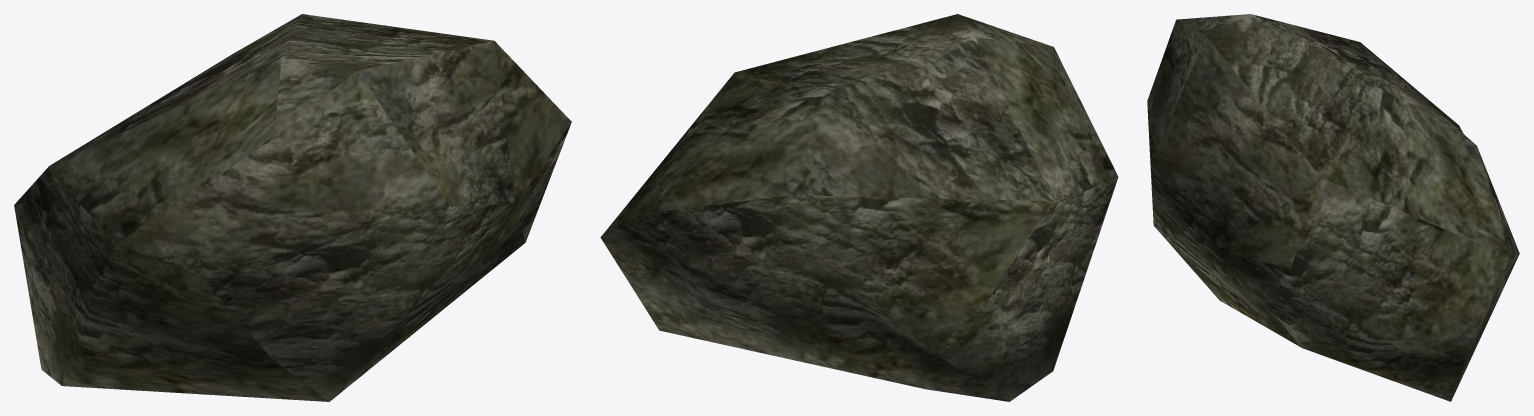
File: MIN_LOB_STONE_V2_30.glb
3 renders of one model, left to right at view 1: azimuth 30°, elevation 25°; view 2: azimuth 150°, elevation 25°; view 3: azimuth 270°, elevation 25°, orthographic. The views are drawn at different scales.
Visible parts, largest first — view 1: Mesh; view 2: Mesh; view 3: Mesh.
Boxes of the visible parts, x1=… form: Mesh: x1=14, y1=14, x2=571, y2=401; Mesh: x1=600, y1=14, x2=1118, y2=401; Mesh: x1=1147, y1=14, x2=1519, y2=401.
Bounding box in the file's own units: 6.83 × 4.46 × 5.29.
1 material, 1 textured.
